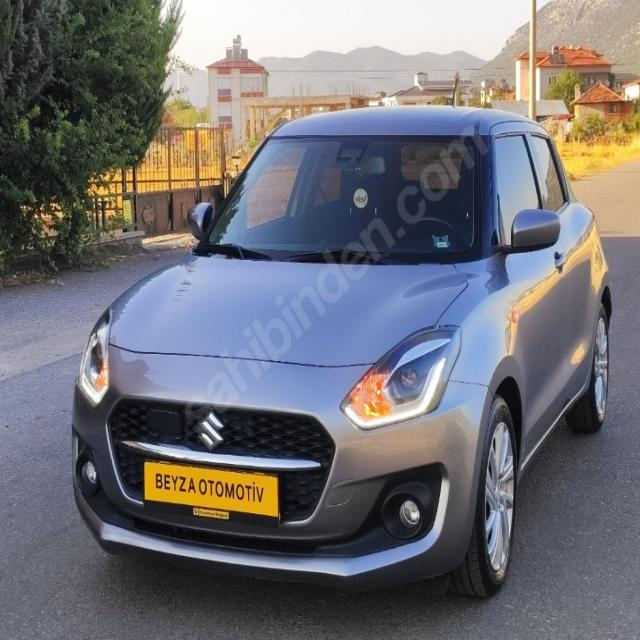suzuki: (195, 408, 226, 453)
